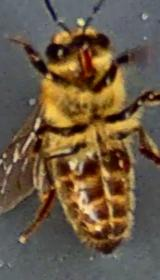varroa_mite: (105, 136, 137, 176)
